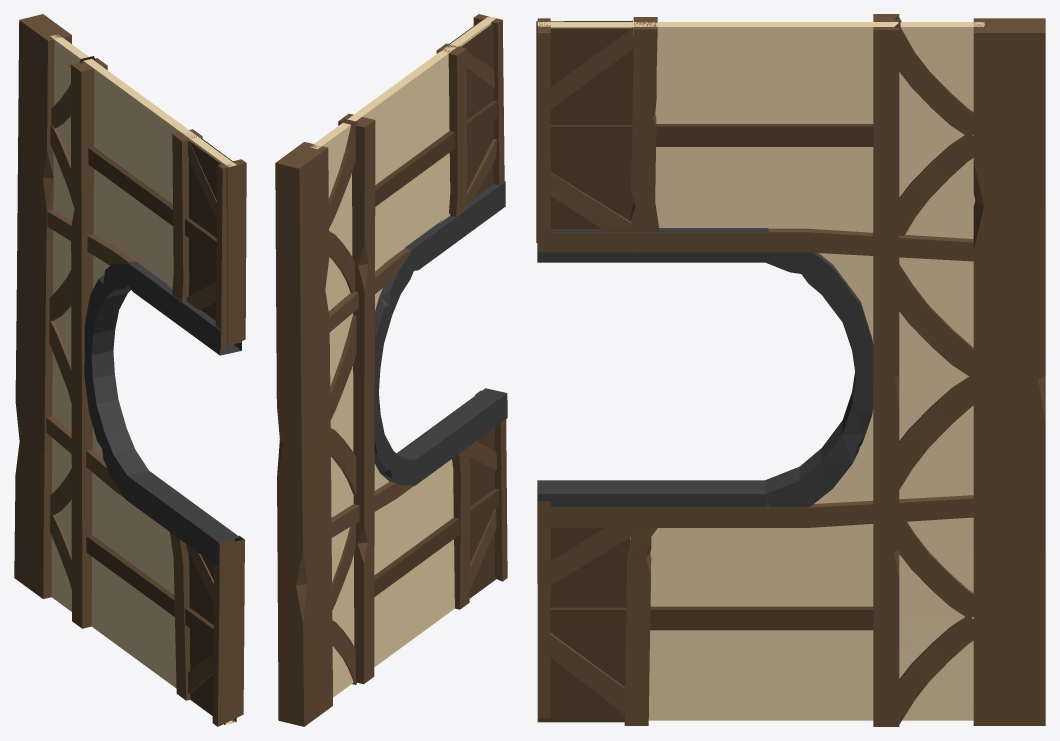
The model's file is Widedoor.fbx.
3 views of the same model, side by side, from view 1: azimuth 30°, elevation 25°; view 2: azimuth 150°, elevation 25°; view 3: azimuth 270°, elevation 25° (orthographic). The views are drawn at different scales.
Parts seen in each view (by area): view 1: BD_AlchemistWS_IntWall_002; view 2: BD_AlchemistWS_IntWall_002; view 3: BD_AlchemistWS_IntWall_002.
Boxes of the visible parts, <box> form: BD_AlchemistWS_IntWall_002: <box>14,14,246,726</box>; BD_AlchemistWS_IntWall_002: <box>275,14,507,726</box>; BD_AlchemistWS_IntWall_002: <box>536,14,1045,726</box>.
Bounding box in the file's own units: 33.98 × 387 × 590.
Materials: 1 (1 with a texture image).
